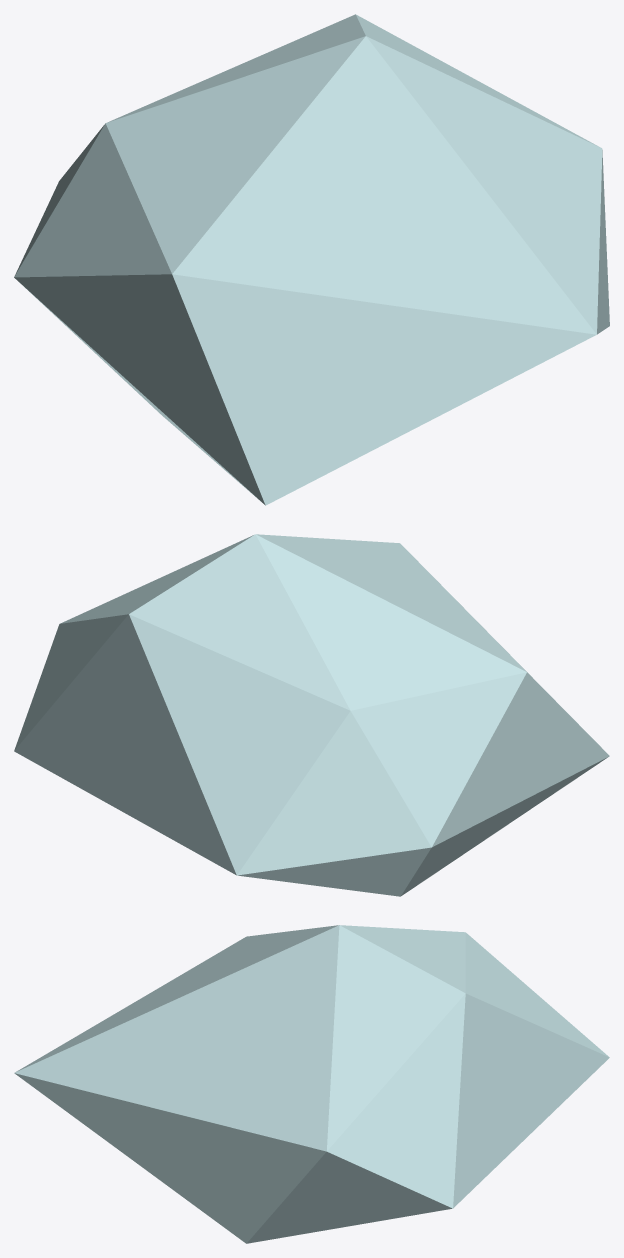
Rendered from Rock78.fbx.
The picture shows the model from 3 angles, top to bottom: view 1: azimuth 30°, elevation 25°; view 2: azimuth 150°, elevation 25°; view 3: azimuth 270°, elevation 25°; orthographic projection. The views are drawn at different scales.
Visible parts, largest first — view 1: pasted__pPlatonic1; view 2: pasted__pPlatonic1; view 3: pasted__pPlatonic1.
Boxes of the visible parts, x1,y1,x2,y2 form: pasted__pPlatonic1: (14,14,609,505); pasted__pPlatonic1: (14,534,609,896); pasted__pPlatonic1: (14,925,609,1243).
Bounding box in the file's own units: 1.9 × 1.25 × 2.35.
